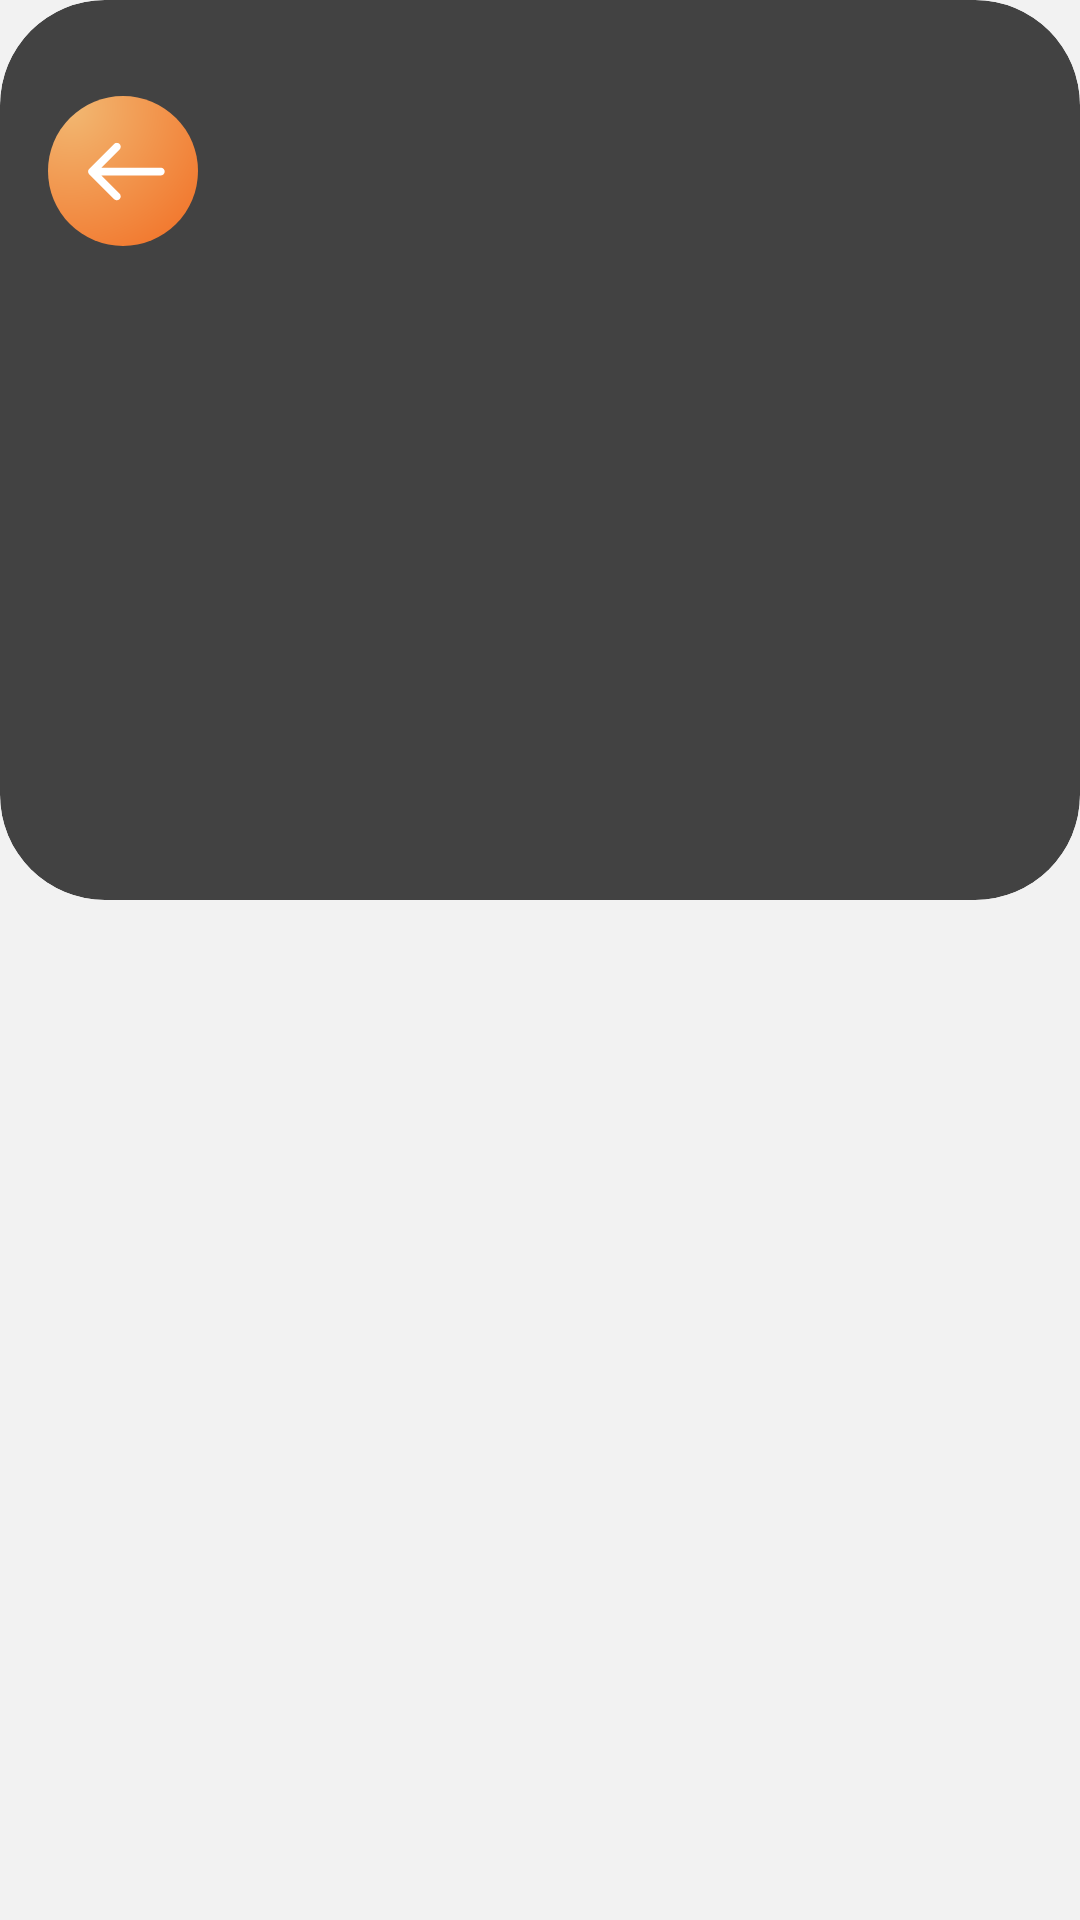

Locate icon controls on the screen. Image size 1080w x 1920h, boxes as (x1, y1, x2, y2).
back: (48, 96, 198, 246)
